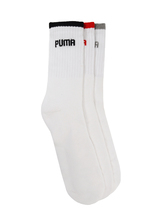sock: (40, 19, 128, 203)
